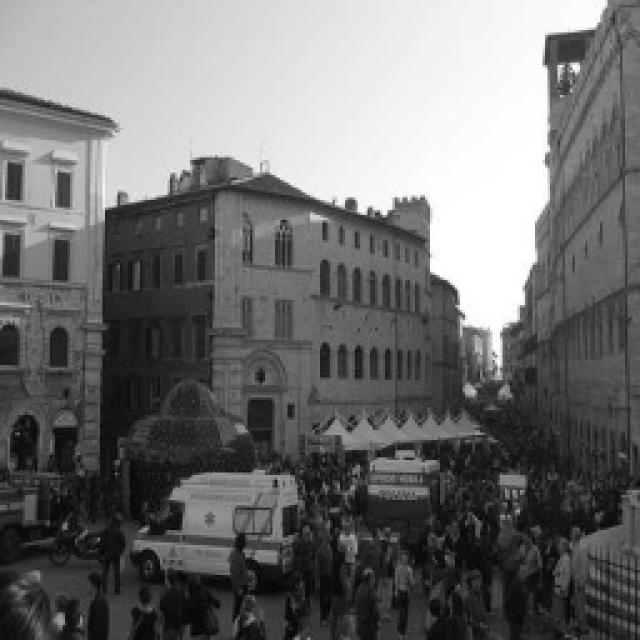emergency-vehicle: (134, 467, 299, 599)
